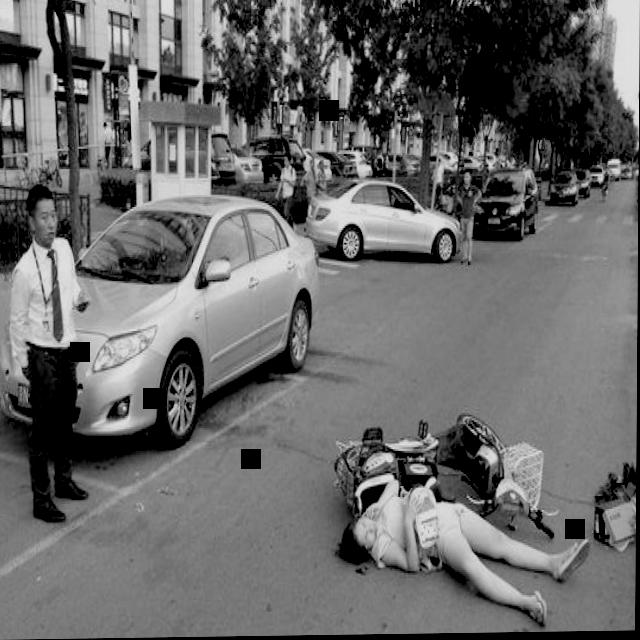Fall-Detected: (328, 471, 591, 633)
